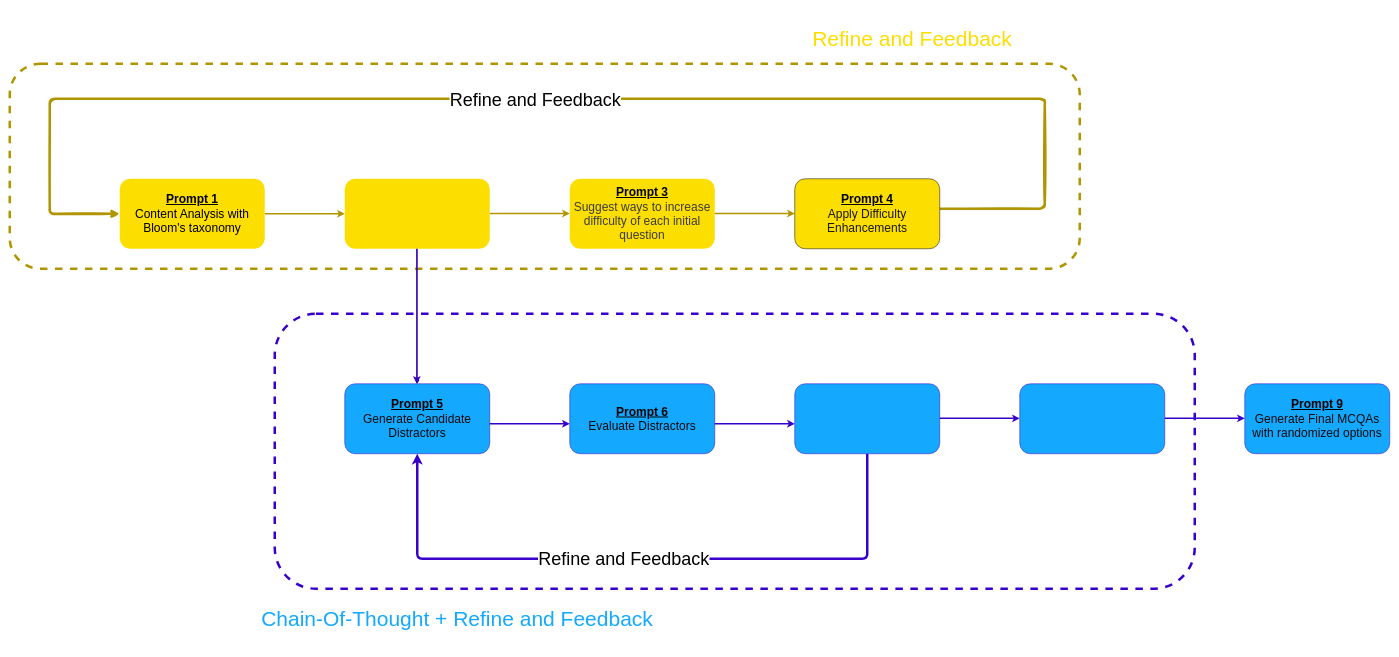
This 1399x657 diagram has some shape labels left out. The shapes that lost their labels are listed below. From the top down, each one's centre as x and y in pixels, then its label:
At pixel 417 213: "Prompt 2 Generate Initial Questions".
At pixel 867 418: "Prompt 7 Eliminate Irrelevant Distractors".
At pixel 1092 418: "Prompt 8 Select Final Distractors".
